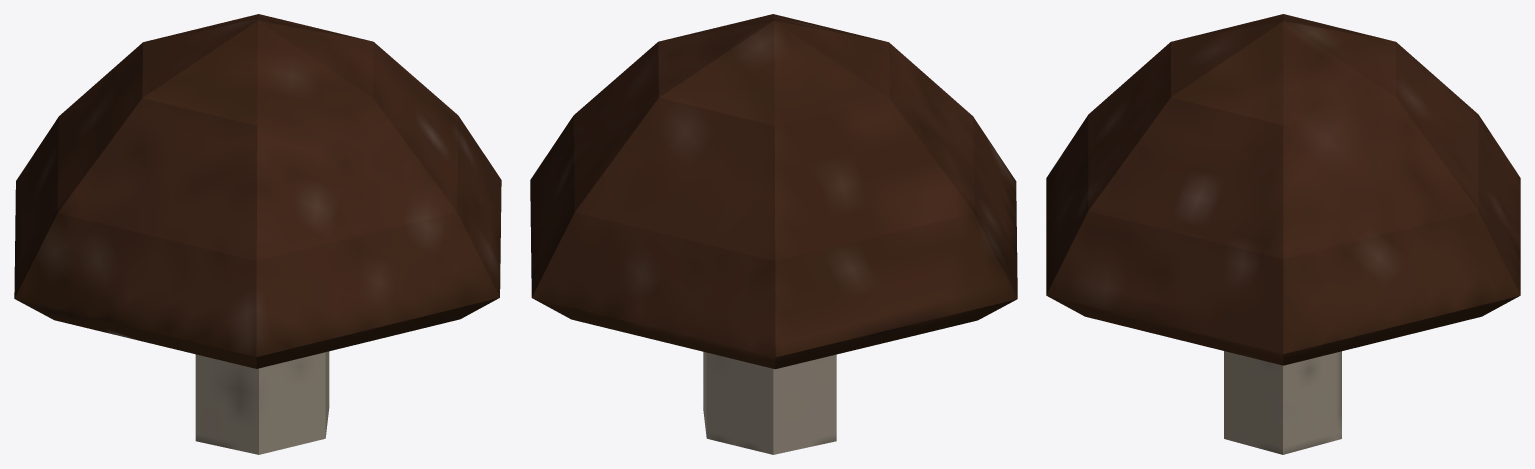
File: Mushroom.fbx
3 renders of one model, left to right at view 1: azimuth 30°, elevation 25°; view 2: azimuth 150°, elevation 25°; view 3: azimuth 270°, elevation 25°, orthographic.
Visible parts, largest first — view 1: pCylinder23; view 2: pCylinder23; view 3: pCylinder23.
Boxes of the visible parts, <box> form: pCylinder23: <box>14,14,501,454</box>; pCylinder23: <box>530,14,1017,454</box>; pCylinder23: <box>1046,14,1520,454</box>.
Bounding box in the file's own units: 36.59 × 29.08 × 31.29.
